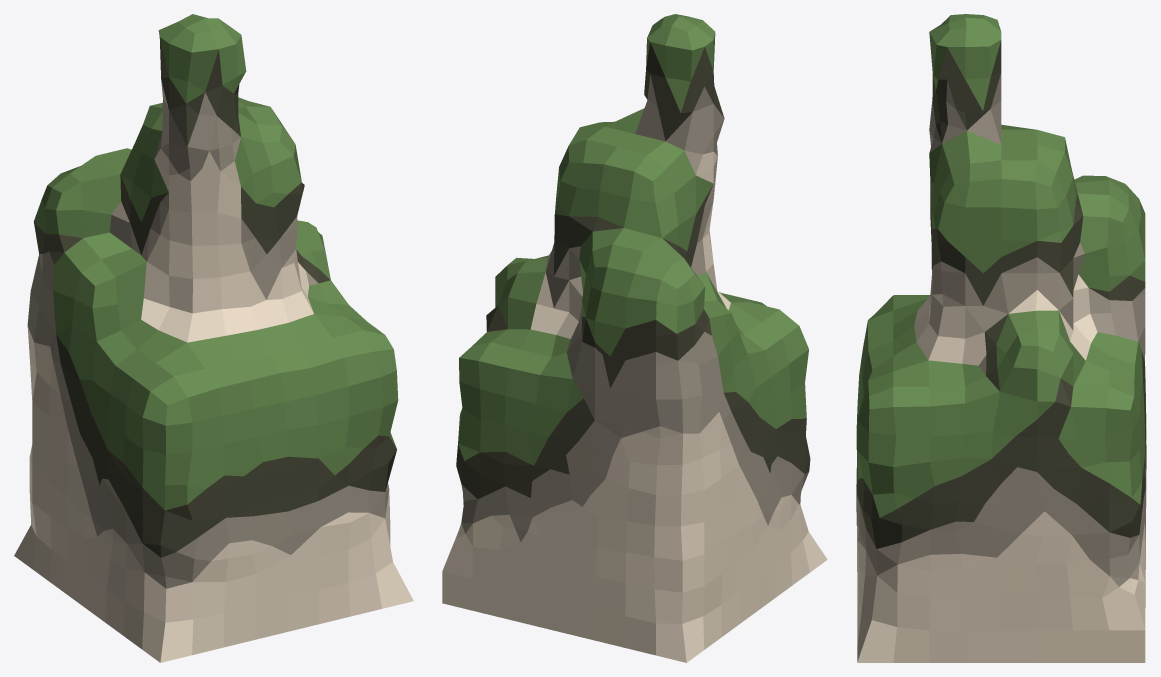
Rendered from Chinese Mountains.fbx.
3 renders of one model, left to right at view 1: azimuth 30°, elevation 25°; view 2: azimuth 150°, elevation 25°; view 3: azimuth 270°, elevation 25°, orthographic. The views are drawn at different scales.
Parts seen in each view (by area): view 1: Chinese Mountain1; view 2: Chinese Mountain1; view 3: Chinese Mountain1.
Part boxes in pixels (x1,y1,x2,y2): Chinese Mountain1: (14,14,413,662); Chinese Mountain1: (442,14,827,662); Chinese Mountain1: (856,14,1146,662).
Size of the model in its own units: 2021 by 4372 by 2014.
